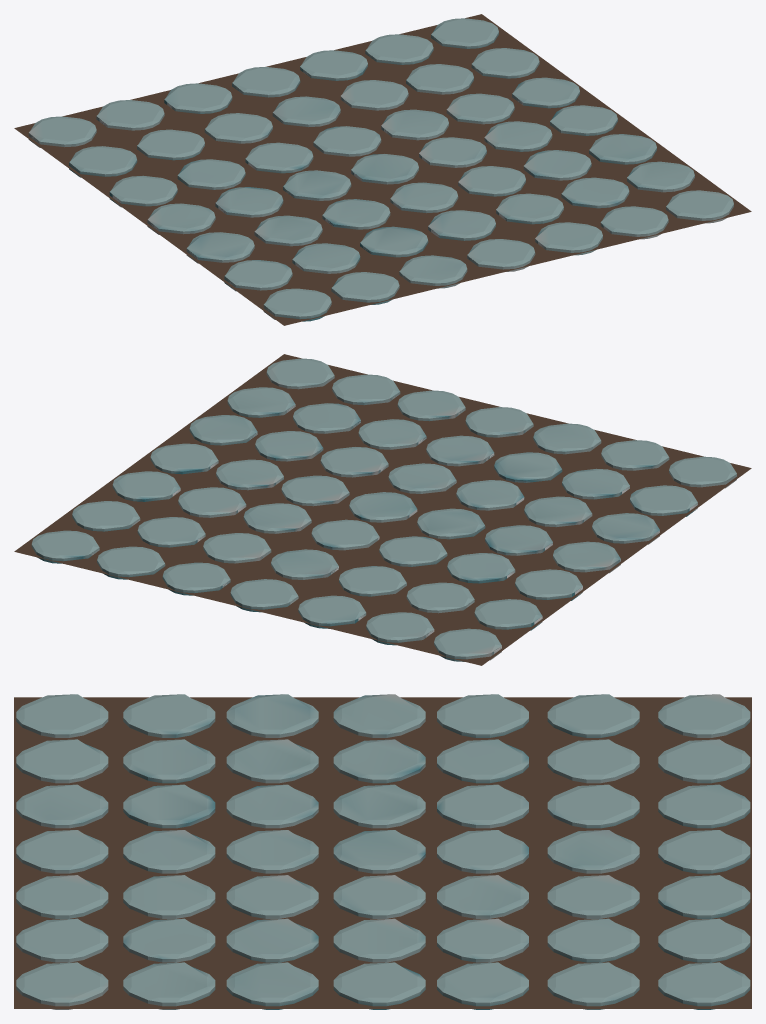
File: chaoPedra_lab_LoPo.fbx
The picture shows the model from 3 angles, top to bottom: view 1: azimuth 30°, elevation 25°; view 2: azimuth 150°, elevation 25°; view 3: azimuth 270°, elevation 25°; orthographic projection. The views are drawn at different scales.
Visible parts, largest first — view 1: chaoPedra_lab_LoPo; view 2: chaoPedra_lab_LoPo; view 3: chaoPedra_lab_LoPo.
Part boxes in pixels (box(x1,y1,x2,y2)): chaoPedra_lab_LoPo: box(14, 14, 751, 325); chaoPedra_lab_LoPo: box(14, 354, 751, 665); chaoPedra_lab_LoPo: box(14, 694, 751, 1009).
Size of the model in its own units: 200 by 2.95 by 200.
